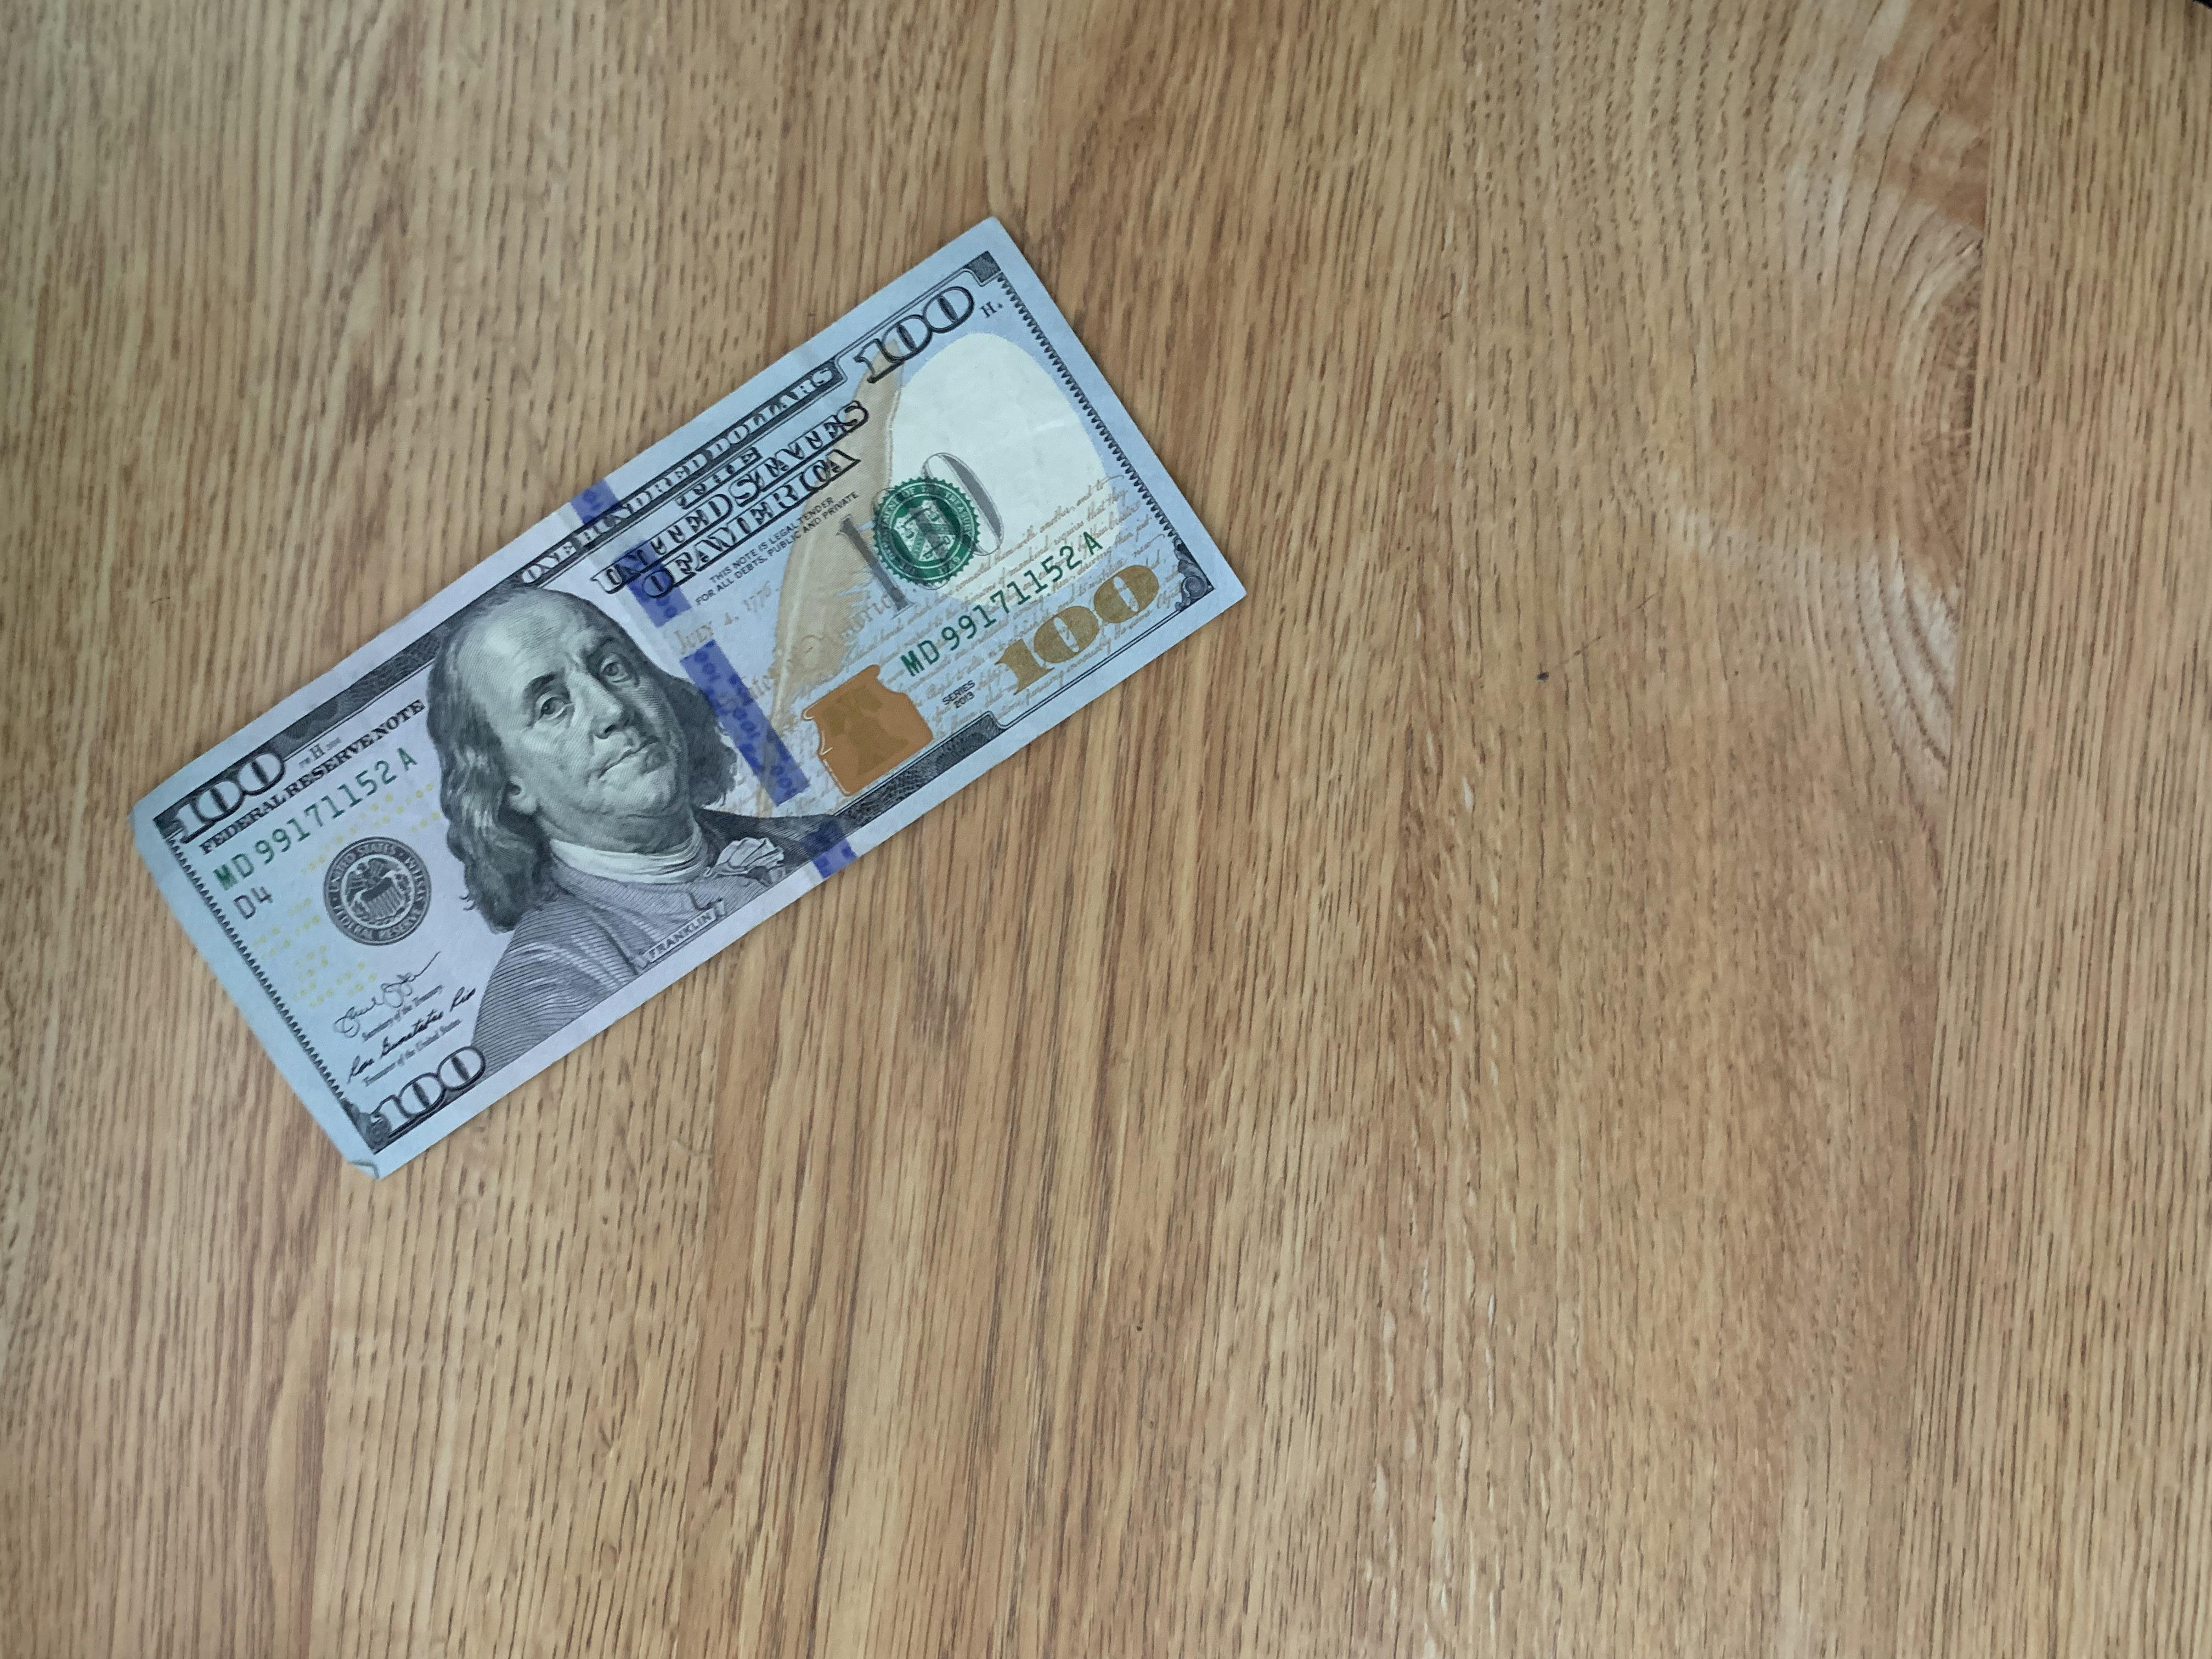HundredBill: (120, 213, 1254, 1175)
